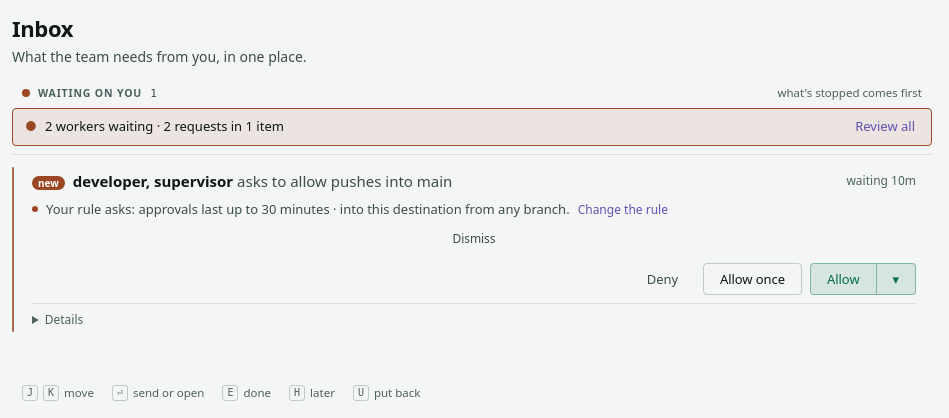
Test: inbox › offers a way to clear permission-group
Step 1. Click the button "Dismiss" → (474, 239), box [32, 227, 916, 251]
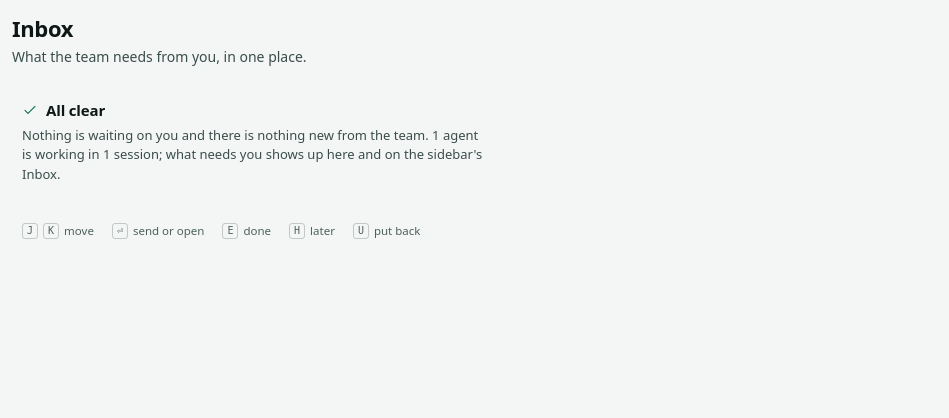
expect the text "Allow pushes into main?" is gone: met
